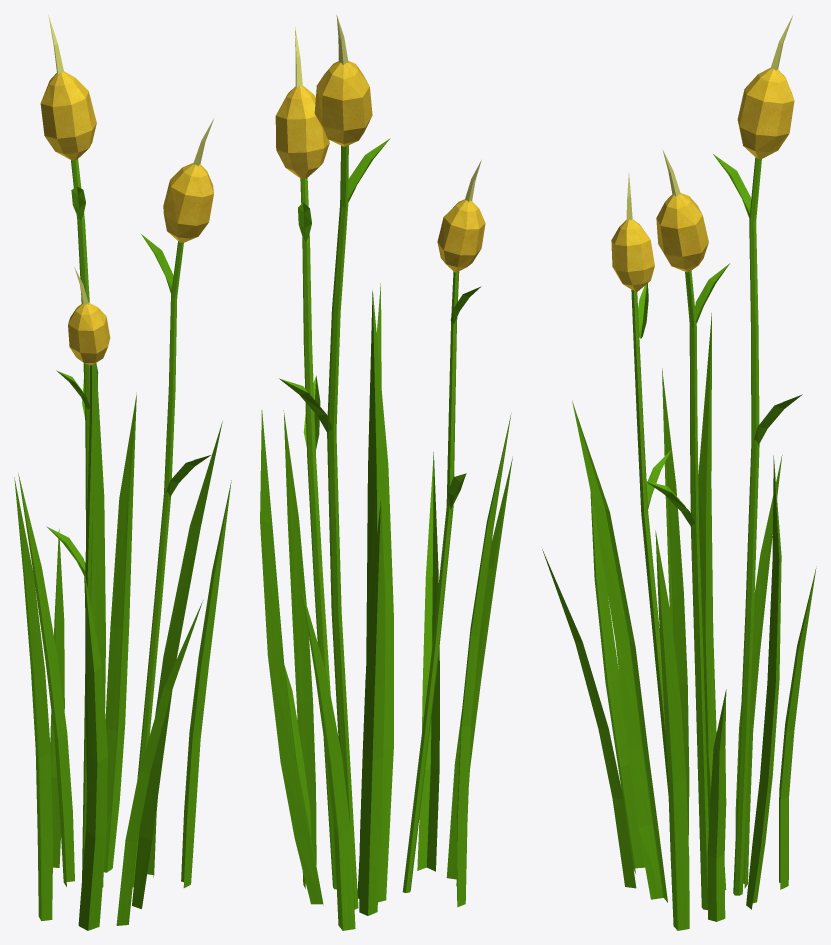
Rendered from PuffReed3_Yellow.fbx.
3 views of the same model, side by side, from view 1: azimuth 30°, elevation 25°; view 2: azimuth 150°, elevation 25°; view 3: azimuth 270°, elevation 25° (orthographic). The views are drawn at different scales.
Parts seen in each view (by area): view 1: Mesh; view 2: Mesh; view 3: Mesh.
Part boxes in pixels (x1,y1,x2,y2): Mesh: (14,15,231,930); Mesh: (260,15,512,930); Mesh: (542,16,816,930).
Size of the model in its own units: 112 by 424 by 121.
